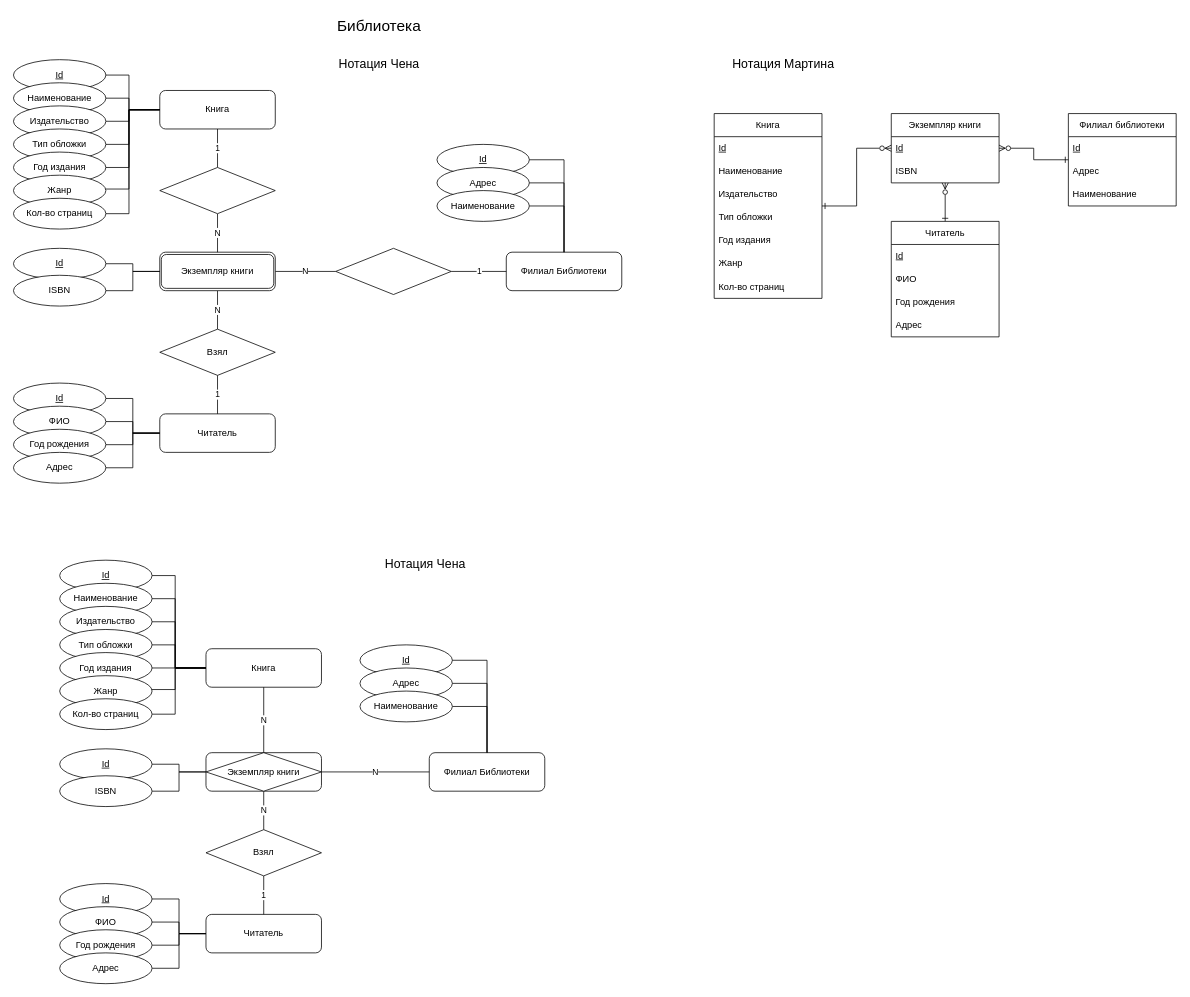
The diagram is 1190 pixels wide and 997 high, and some of its shapes have lost their labels. Each missing label, with the centre of its shape:
"Представляет" belongs at (x=217, y=190).
"Хранится" belongs at (x=393, y=271).
